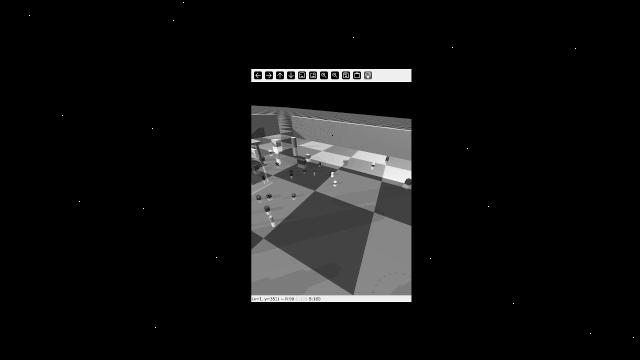cilindro: (289, 135, 297, 150), (266, 214, 274, 225), (264, 203, 271, 215), (369, 160, 378, 168), (261, 171, 268, 181), (384, 155, 389, 163), (318, 160, 323, 167), (288, 172, 293, 177), (312, 168, 316, 173)
cuadrado: (270, 138, 282, 147), (403, 177, 412, 187), (303, 152, 313, 159), (251, 163, 260, 170), (330, 169, 339, 175), (266, 193, 273, 200), (288, 170, 294, 172)
esfera: (263, 147, 274, 154), (257, 154, 266, 162), (253, 193, 262, 200), (290, 192, 298, 198), (333, 179, 339, 186), (274, 161, 281, 166), (303, 168, 309, 172)
rectangulo: (295, 157, 306, 166), (341, 158, 351, 167), (251, 148, 259, 154)
